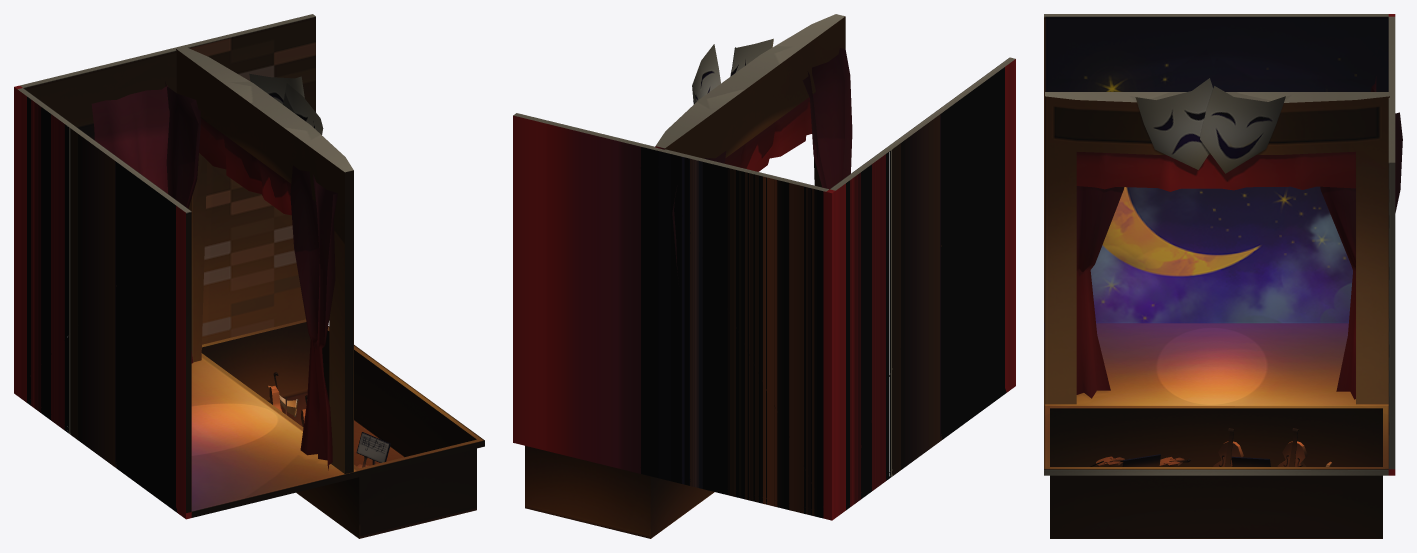
File: Tx_Interior_Work_MusicTheatre_20170713.fbx
3 views of the same model, side by side, from view 1: azimuth 30°, elevation 25°; view 2: azimuth 150°, elevation 25°; view 3: azimuth 270°, elevation 25° (orthographic). The views are drawn at different scales.
Visible parts, largest first — view 1: Music_threate_Interior_ori2; view 2: Music_threate_Interior_ori2; view 3: Music_threate_Interior_ori2.
Boxes of the visible parts, x1,y1,x2,y2 form: Music_threate_Interior_ori2: (14, 14, 484, 538); Music_threate_Interior_ori2: (513, 14, 1015, 538); Music_threate_Interior_ori2: (1044, 14, 1402, 538).
Size of the model in its own units: 22.75 by 28.98 by 23.18.
1 material, 1 textured.
